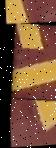scratch: (2, 20, 56, 124)
